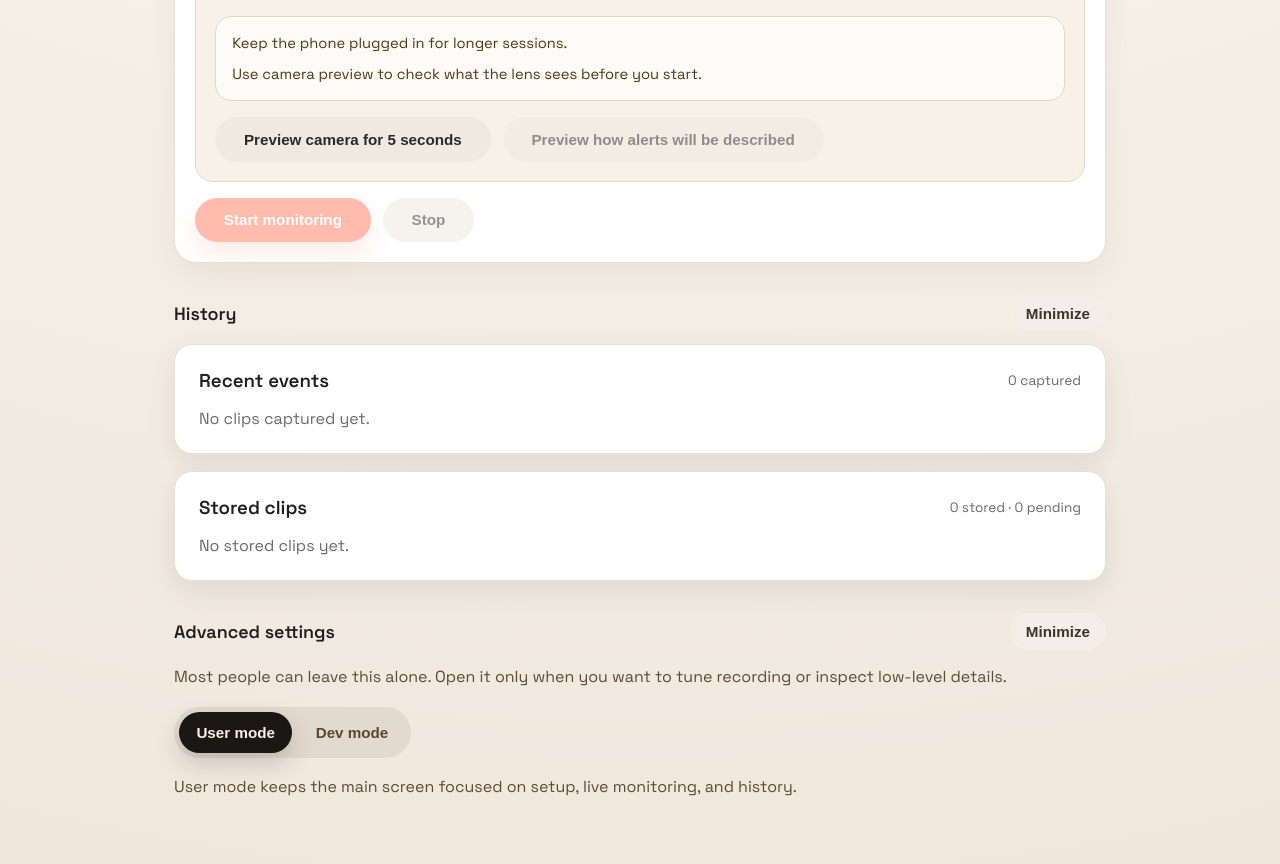
it: App › shows recording settings controls in dev mode
The width and height of the screenshot is (1280, 864).
(page scrolled)
Click the button "Dev mode".
click(352, 732)  # box [298,712,406,753]
(page scrolled)
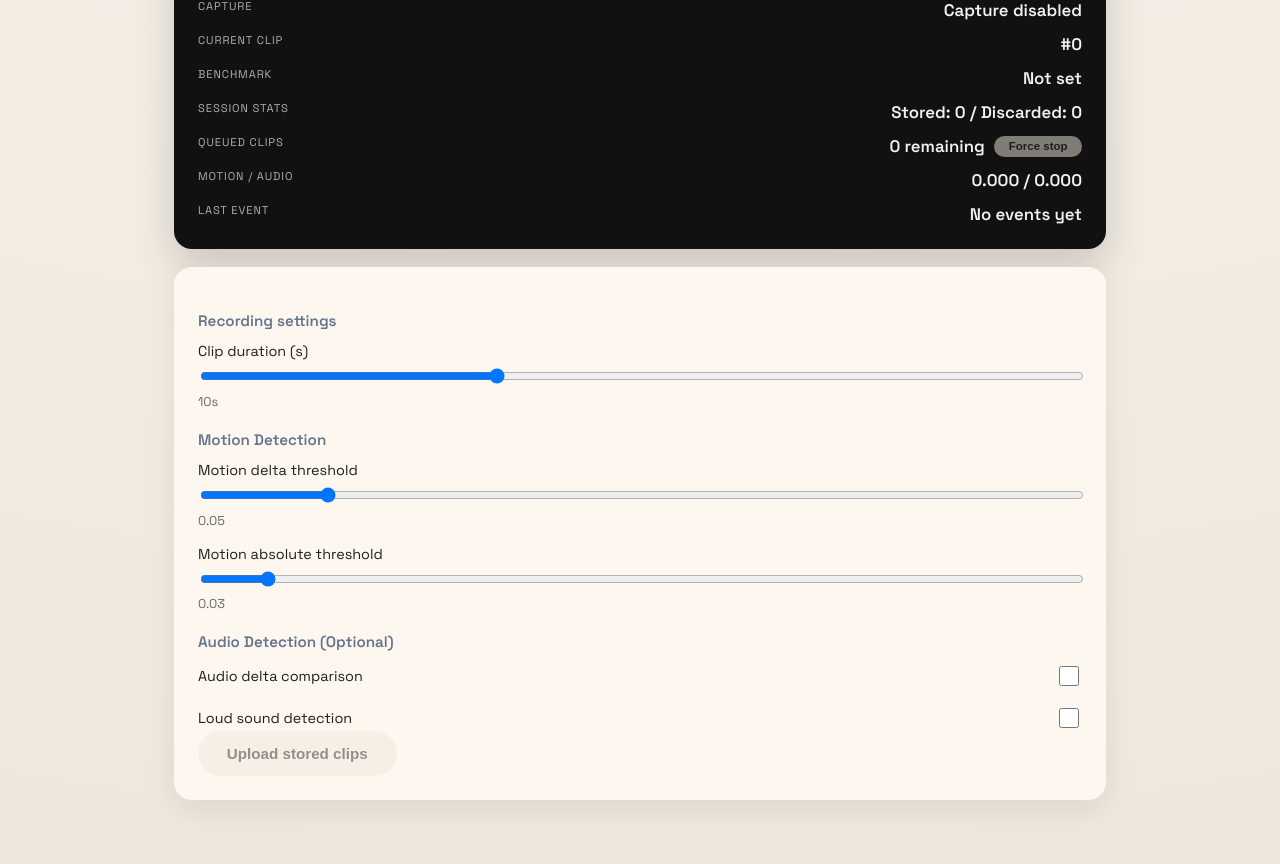
Check: the heading "Recording settings" is shown, box [198,311,337,330]
Check: the slider labelled "Clip duration (s) 10s" is shown, box [200,368,1084,384]
Check: the slider labelled "Motion delta threshold 0.05" is shown, box [200,487,1084,503]
